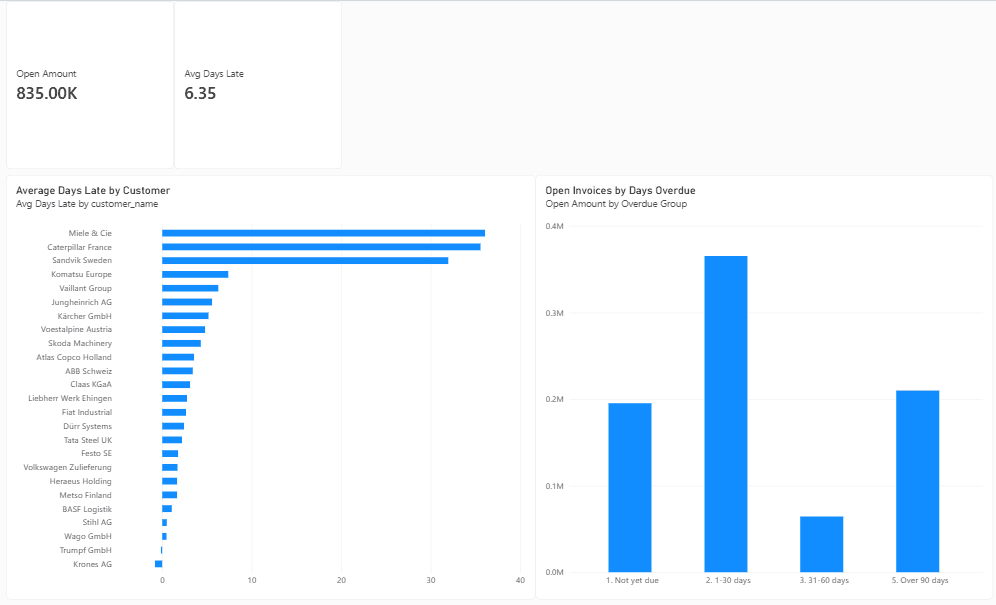

Layout of this report page (visuals, bound fields, positions):
{"tool":"powerbi","page":{"name":"Receivables","canvas":[1920,1080],"ordinal":1},"visuals":[{"type":"cardVisual","fields":{"Data":["invoices.Open Amount"]},"box":[10,0,280,280],"z":0},{"type":"cardVisual","fields":{"Data":["invoices.Avg Days Late"]},"box":[290,0,280,280],"z":1000},{"type":"clusteredBarChart","title":"Average Days Late by Customer","fields":{"Category":["customers.customer_name"],"Y":["invoices.Avg Days Late"]},"box":[10,290,882.5,707.5],"z":2000},{"type":"clusteredColumnChart","title":"Open Invoices by Days Overdue","fields":{"Category":["invoices.Overdue Group"],"Y":["invoices.Open Amount"]},"box":[892.5,290,762.5,707.5],"z":3000}]}

Visuals, with their boxes on the page's 1920x1080 design canvas (x1, y1, x2, y2). These are canvas units, not pixel positions in the 996x605 screenshot, which may show the page scaled, cropped or inside an application window:
cardVisual - invoices.Open Amount: box(10, 0, 290, 280)
cardVisual - invoices.Avg Days Late: box(290, 0, 570, 280)
"Average Days Late by Customer" clusteredBarChart: box(10, 290, 892, 998)
"Open Invoices by Days Overdue" clusteredColumnChart: box(892, 290, 1655, 998)
